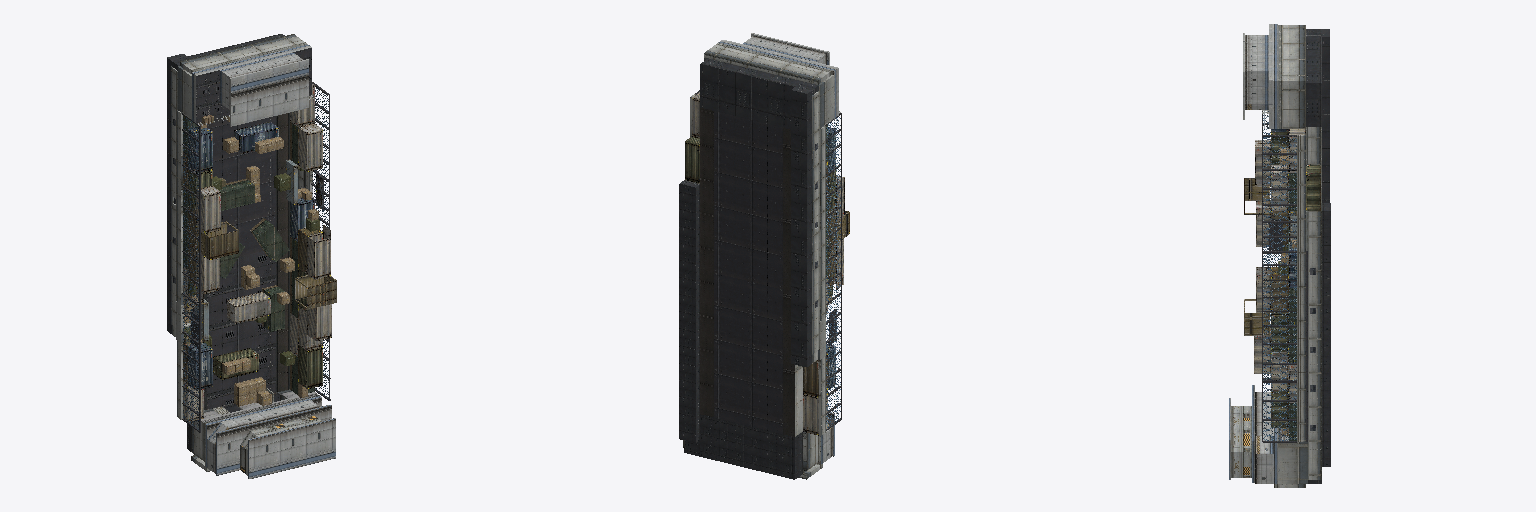
The picture shows the model from 3 angles: view 1: azimuth 30°, elevation 25°; view 2: azimuth 150°, elevation 25°; view 3: azimuth 270°, elevation 25°; orthographic projection.
Parts seen in each view (by area): view 1: BSP_Object.model_0, BSP_Object.model_2; view 2: BSP_Object.model_0, BSP_Object.model_2; view 3: BSP_Object.model_0, BSP_Object.model_1.
Part boxes in pixels (left/top/right/bottom): BSP_Object.model_0: left=167, top=34, right=336, bottom=478; BSP_Object.model_2: left=183, top=117, right=198, bottom=429; BSP_Object.model_0: left=679, top=33, right=849, bottom=479; BSP_Object.model_2: left=826, top=117, right=840, bottom=427; BSP_Object.model_0: left=1229, top=24, right=1330, bottom=487; BSP_Object.model_1: left=1263, top=137, right=1296, bottom=440.
Size of the model in its own units: 1040 by 3024 by 696.
47 materials, 47 textured.